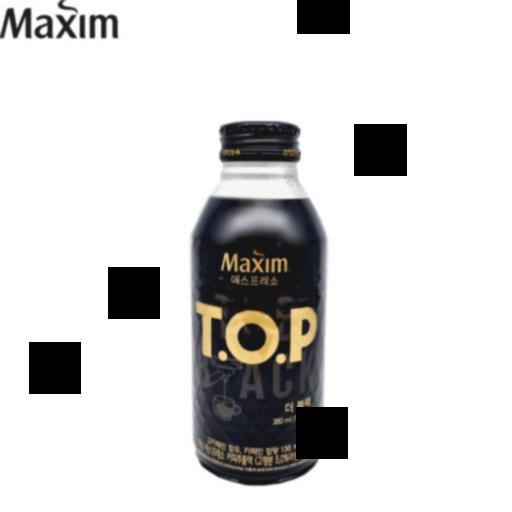TOP_black: (186, 108, 332, 490)
